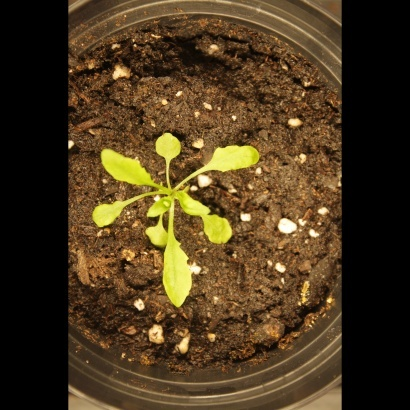leaf: (156, 235, 198, 323), (94, 142, 158, 190), (197, 137, 263, 178), (80, 200, 131, 233), (134, 220, 176, 252), (202, 214, 239, 249), (174, 185, 213, 218), (152, 129, 188, 161), (144, 193, 170, 221)
